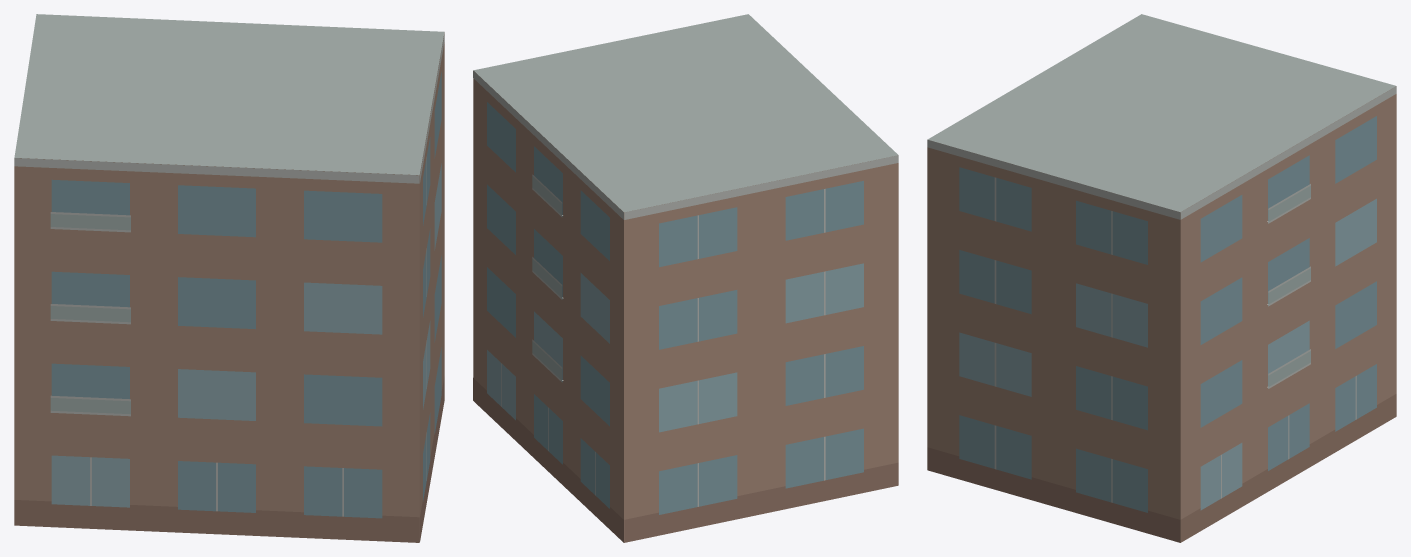
File: survey-upis-32860693.glb
3 renders of one model, left to right at view 1: azimuth 30°, elevation 25°; view 2: azimuth 150°, elevation 25°; view 3: azimuth 270°, elevation 25°, orthographic. The views are drawn at different scales.
Visible parts, largest first — view 1: survey-upis-32860693.tmp; view 2: survey-upis-32860693.tmp; view 3: survey-upis-32860693.tmp.
Boxes of the visible parts, box(x1,y1,x2,y2) form: survey-upis-32860693.tmp: box(14, 14, 444, 542); survey-upis-32860693.tmp: box(473, 14, 898, 542); survey-upis-32860693.tmp: box(927, 14, 1396, 542).
Bounding box in the file's own units: 13.51 × 10.5 × 13.52.
